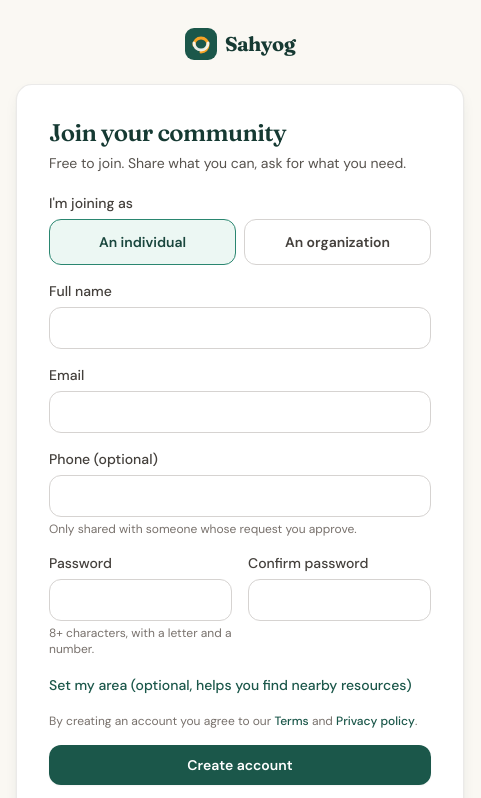
Test case: registration form validation › requires organization details when joining as an organization
The width and height of the screenshot is (481, 798).
What coordinates should you click on to do the following:
click the radio button labelled "An organization"
I would click on:
 (338, 242)
Its box is [244, 219, 431, 265].
(page scrolled)
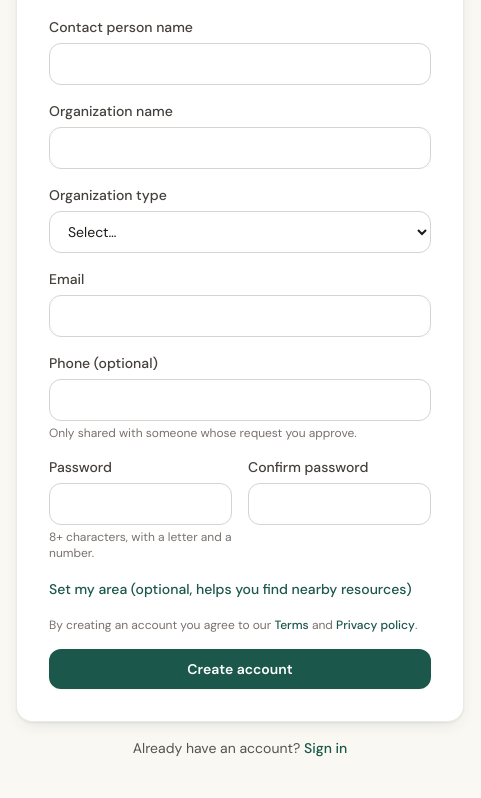
What coordinates should you click on to do the following:
click the button "Create account"
I would click on:
 (240, 669)
Its box is [49, 649, 431, 689].
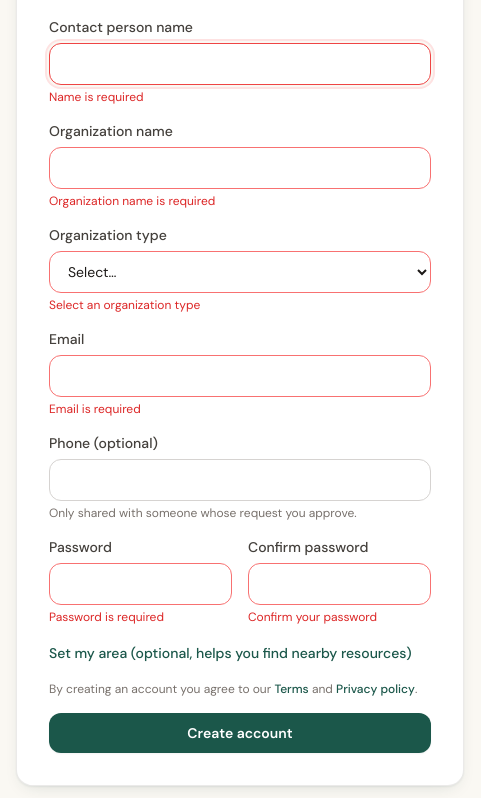
Now the text "Organization name is required" is shown, box [49, 193, 215, 209]
Now the text "Select an organization type" is shown, box [49, 297, 200, 313]
